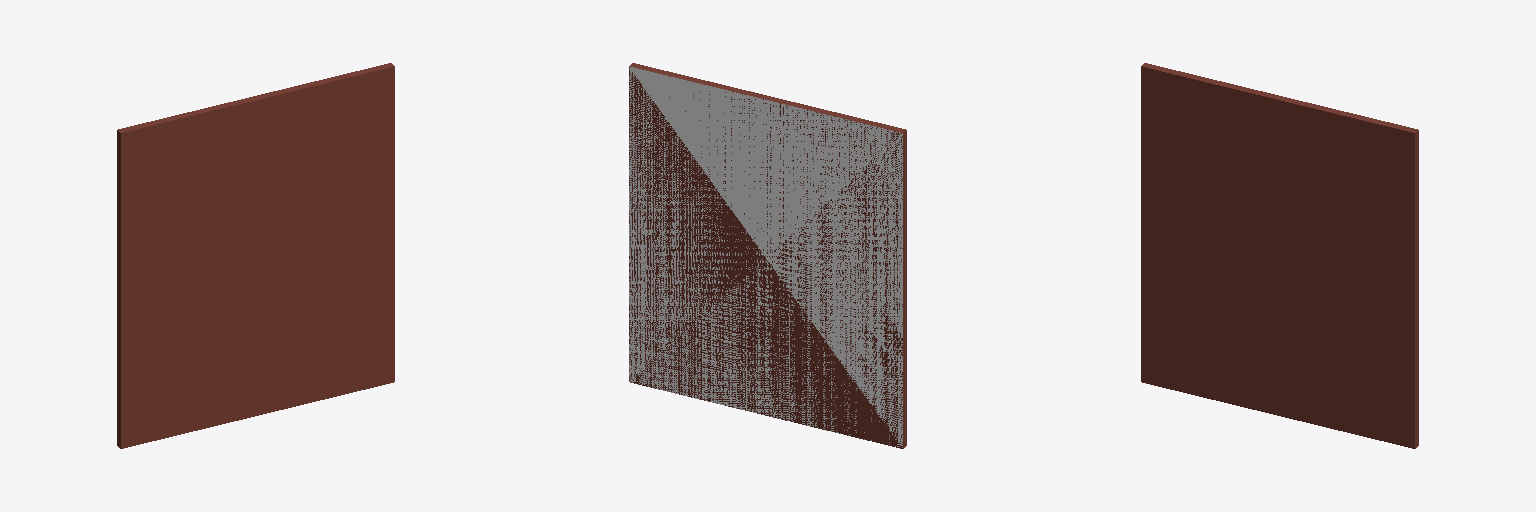
Rendered from Painting-004.obj.
The picture shows the model from 3 angles: view 1: azimuth 30°, elevation 25°; view 2: azimuth 150°, elevation 25°; view 3: azimuth 330°, elevation 25°; orthographic projection.
Visible parts, largest first — view 1: Mesh1 Group1 Model; view 2: Mesh1 Group1 Model; view 3: Mesh1 Group1 Model.
Boxes of the visible parts, x1,y1,x2,y2 form: Mesh1 Group1 Model: [117, 63, 394, 448]; Mesh1 Group1 Model: [629, 63, 906, 448]; Mesh1 Group1 Model: [1141, 63, 1418, 448].
Bounding box in the file's own units: 1.38 × 1.52 × 0.04.